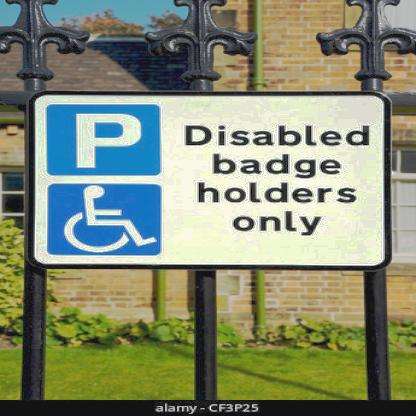Parking: (39, 102, 166, 178)
